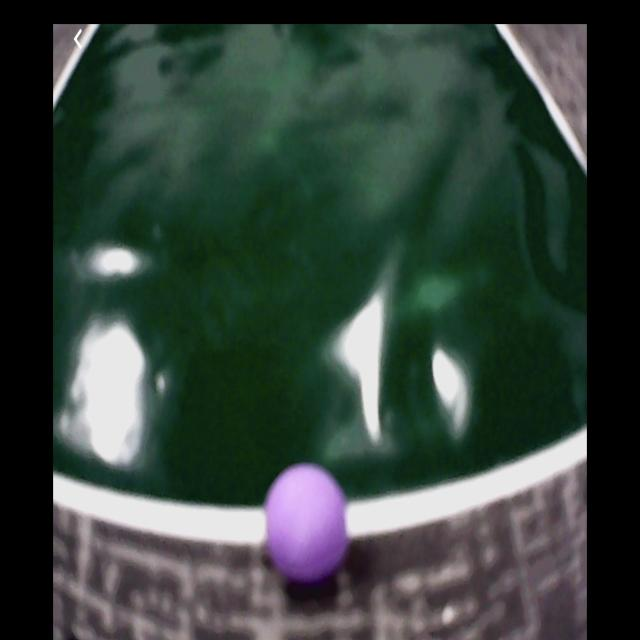ball: (264, 461, 351, 586)
